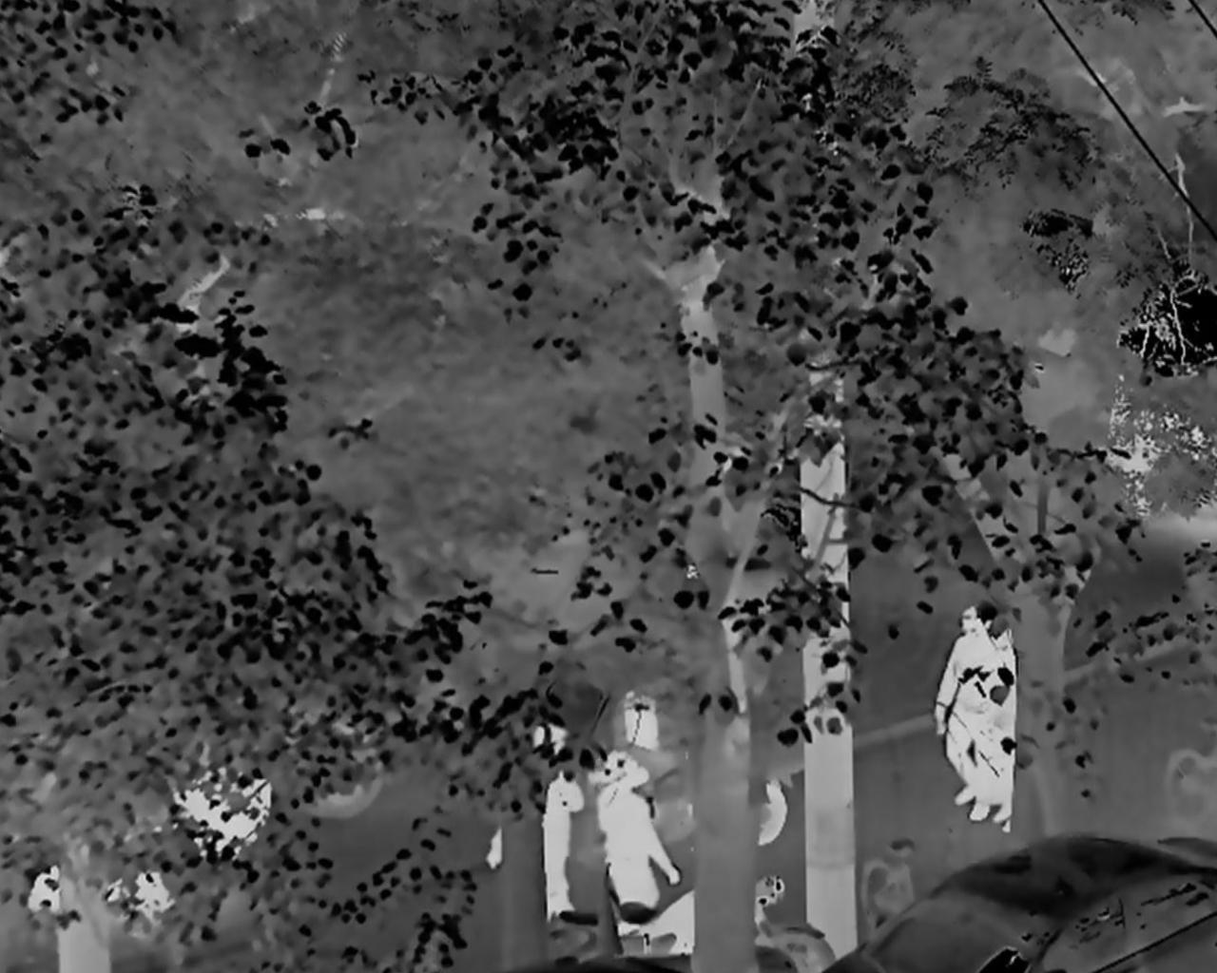person: (488, 724, 583, 919), (592, 751, 679, 910), (934, 602, 992, 819), (986, 618, 1013, 833)
